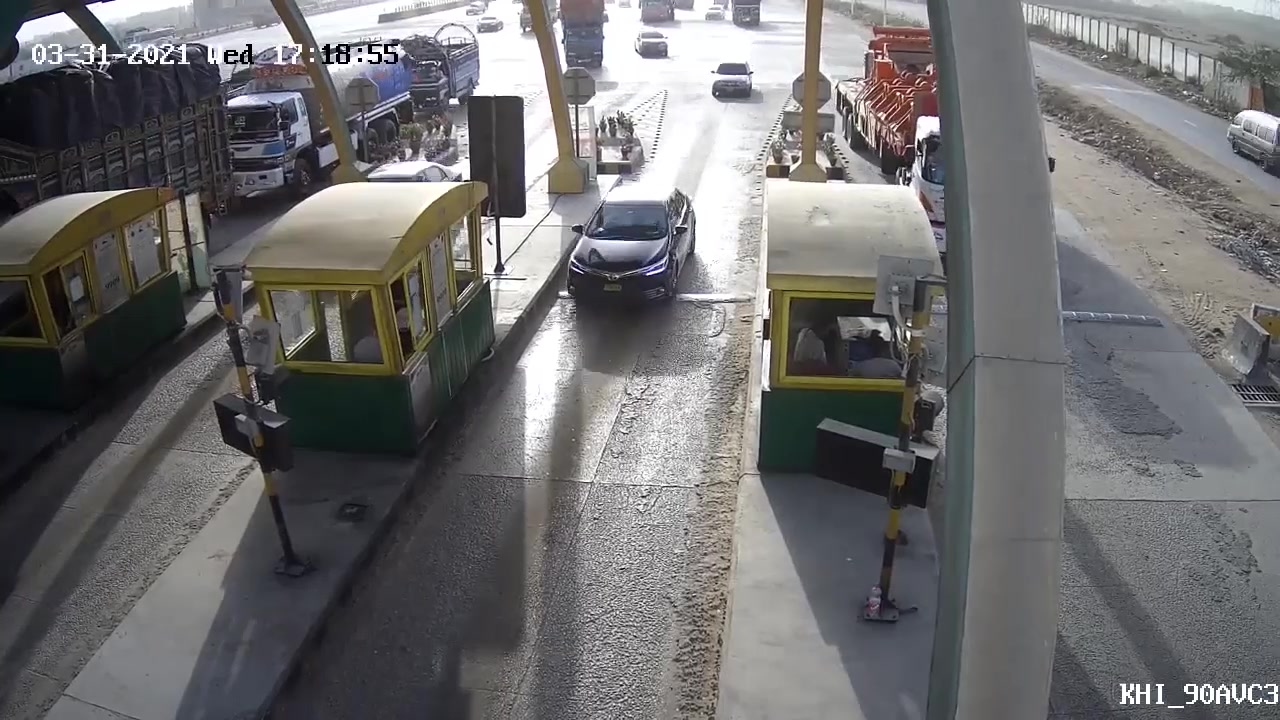F1: (556, 168, 699, 318)
